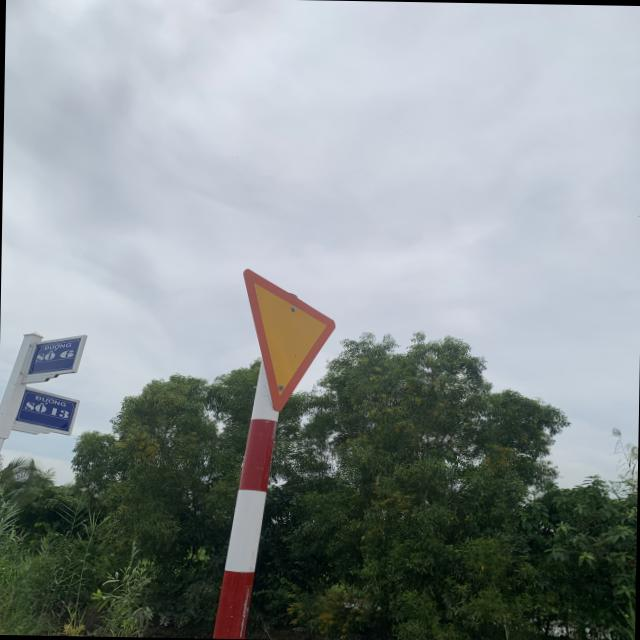Gioi_Han_Toc_Do_25: (240, 268, 338, 412)
